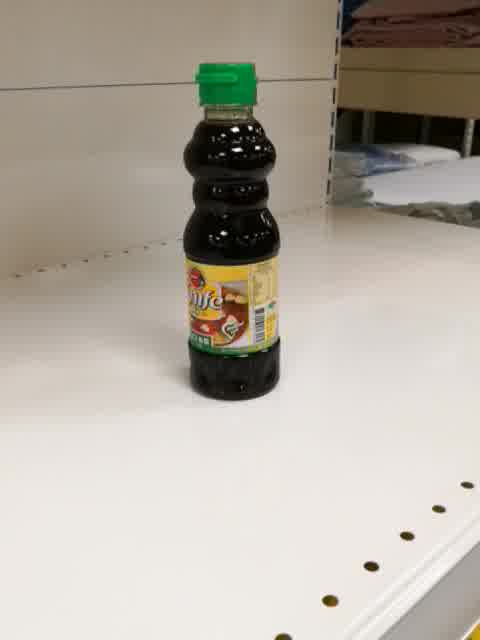cookingoil: (180, 57, 283, 403)
